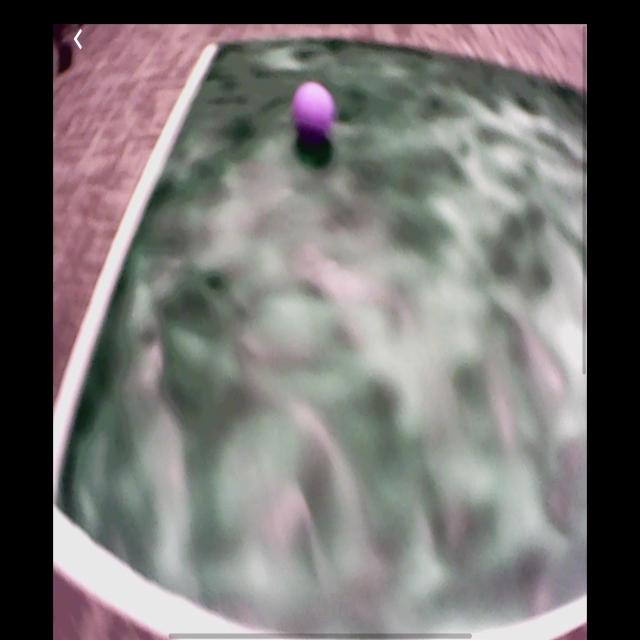ball: (294, 80, 333, 141)
